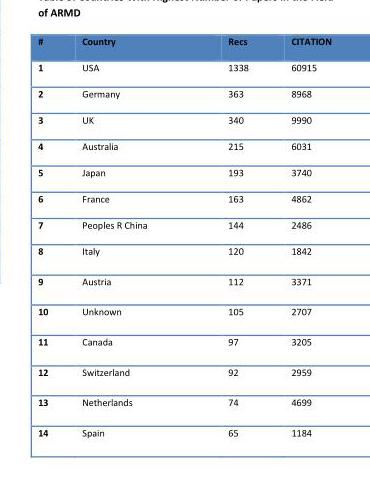table: (37, 36, 330, 437)
table column: (64, 36, 186, 437), (186, 36, 269, 437), (269, 36, 330, 437), (37, 36, 64, 437)
table column header: (37, 36, 330, 54)
table row: (37, 326, 330, 357), (37, 266, 330, 296), (37, 296, 330, 326), (37, 357, 330, 387), (37, 387, 330, 417), (37, 238, 330, 266), (37, 80, 330, 107), (37, 211, 330, 238), (37, 54, 330, 80), (37, 107, 330, 133), (37, 133, 330, 159), (37, 159, 330, 185), (37, 185, 330, 211), (37, 417, 330, 437), (37, 36, 330, 54)
